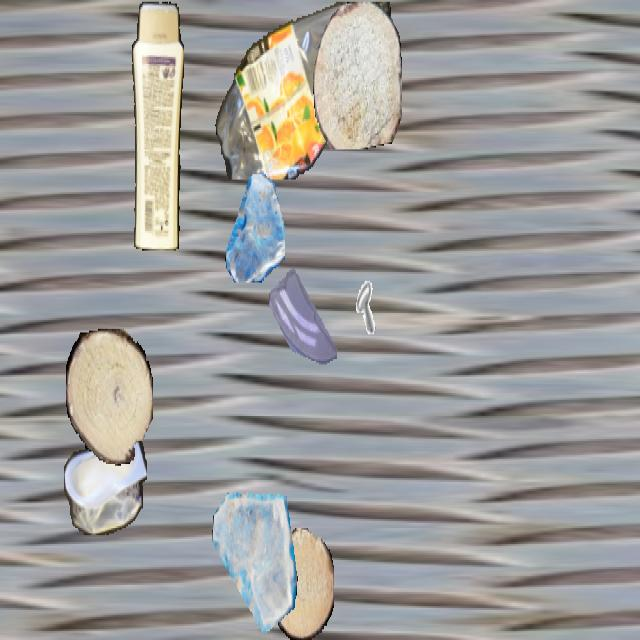glass: (211, 486, 297, 638), (269, 256, 337, 377), (224, 174, 284, 281)
metal: (331, 272, 377, 354)
plastic: (214, 2, 396, 180), (129, 2, 183, 250), (64, 427, 146, 533)
wood: (313, 2, 401, 148), (66, 329, 152, 464), (272, 528, 334, 638)
